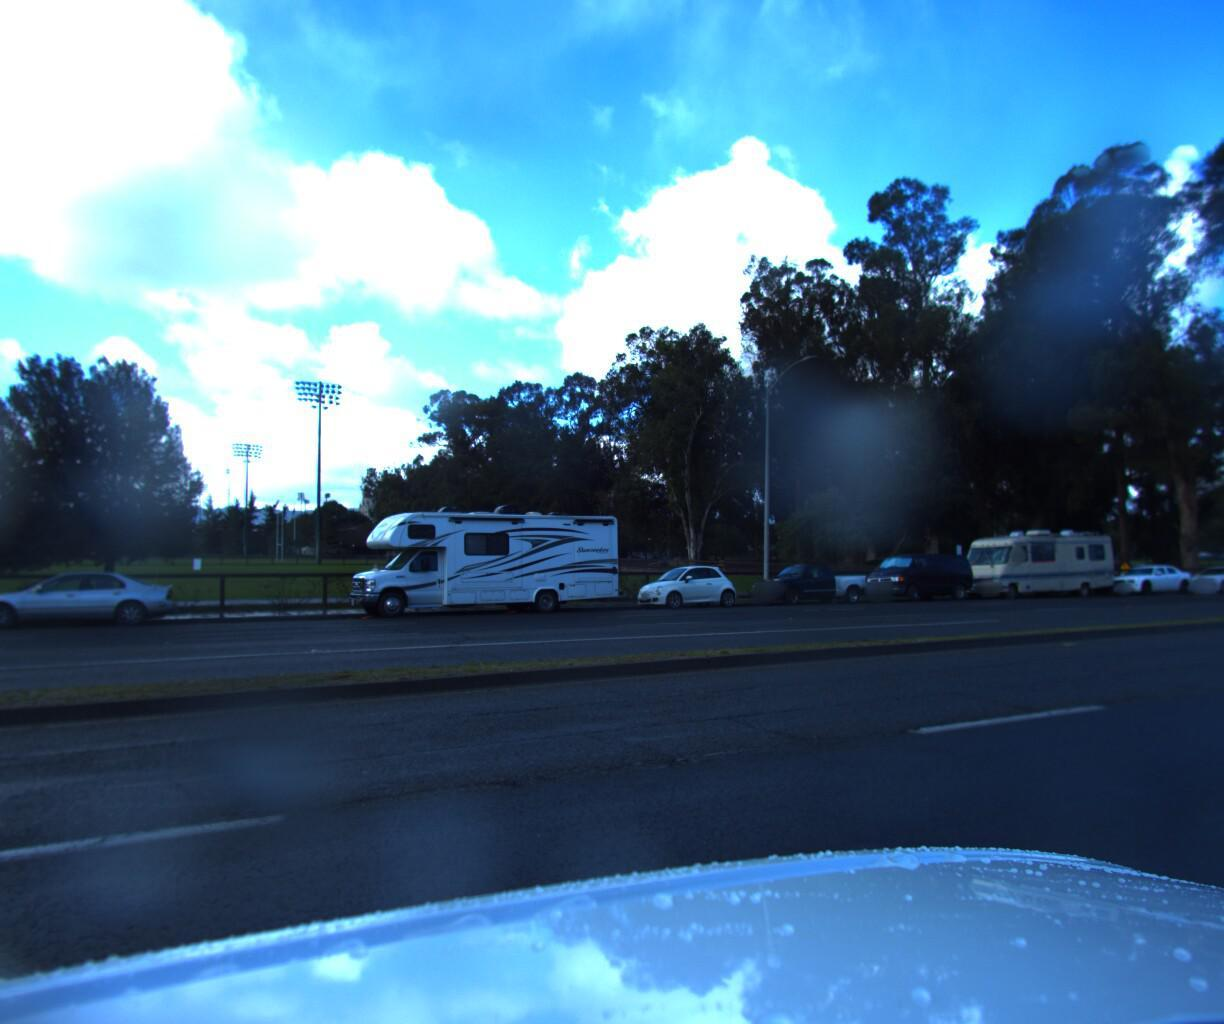car: (0, 573, 182, 650), (740, 567, 871, 609), (854, 556, 974, 601), (626, 570, 739, 608), (1086, 570, 1189, 600), (1161, 568, 1224, 596)
other_vehicle: (330, 506, 627, 627), (940, 532, 1114, 604)
